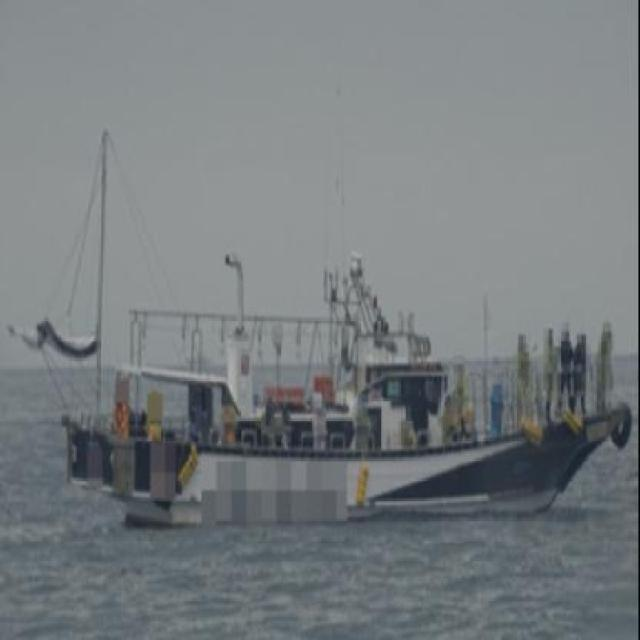fish-b: (36, 174, 640, 557)
